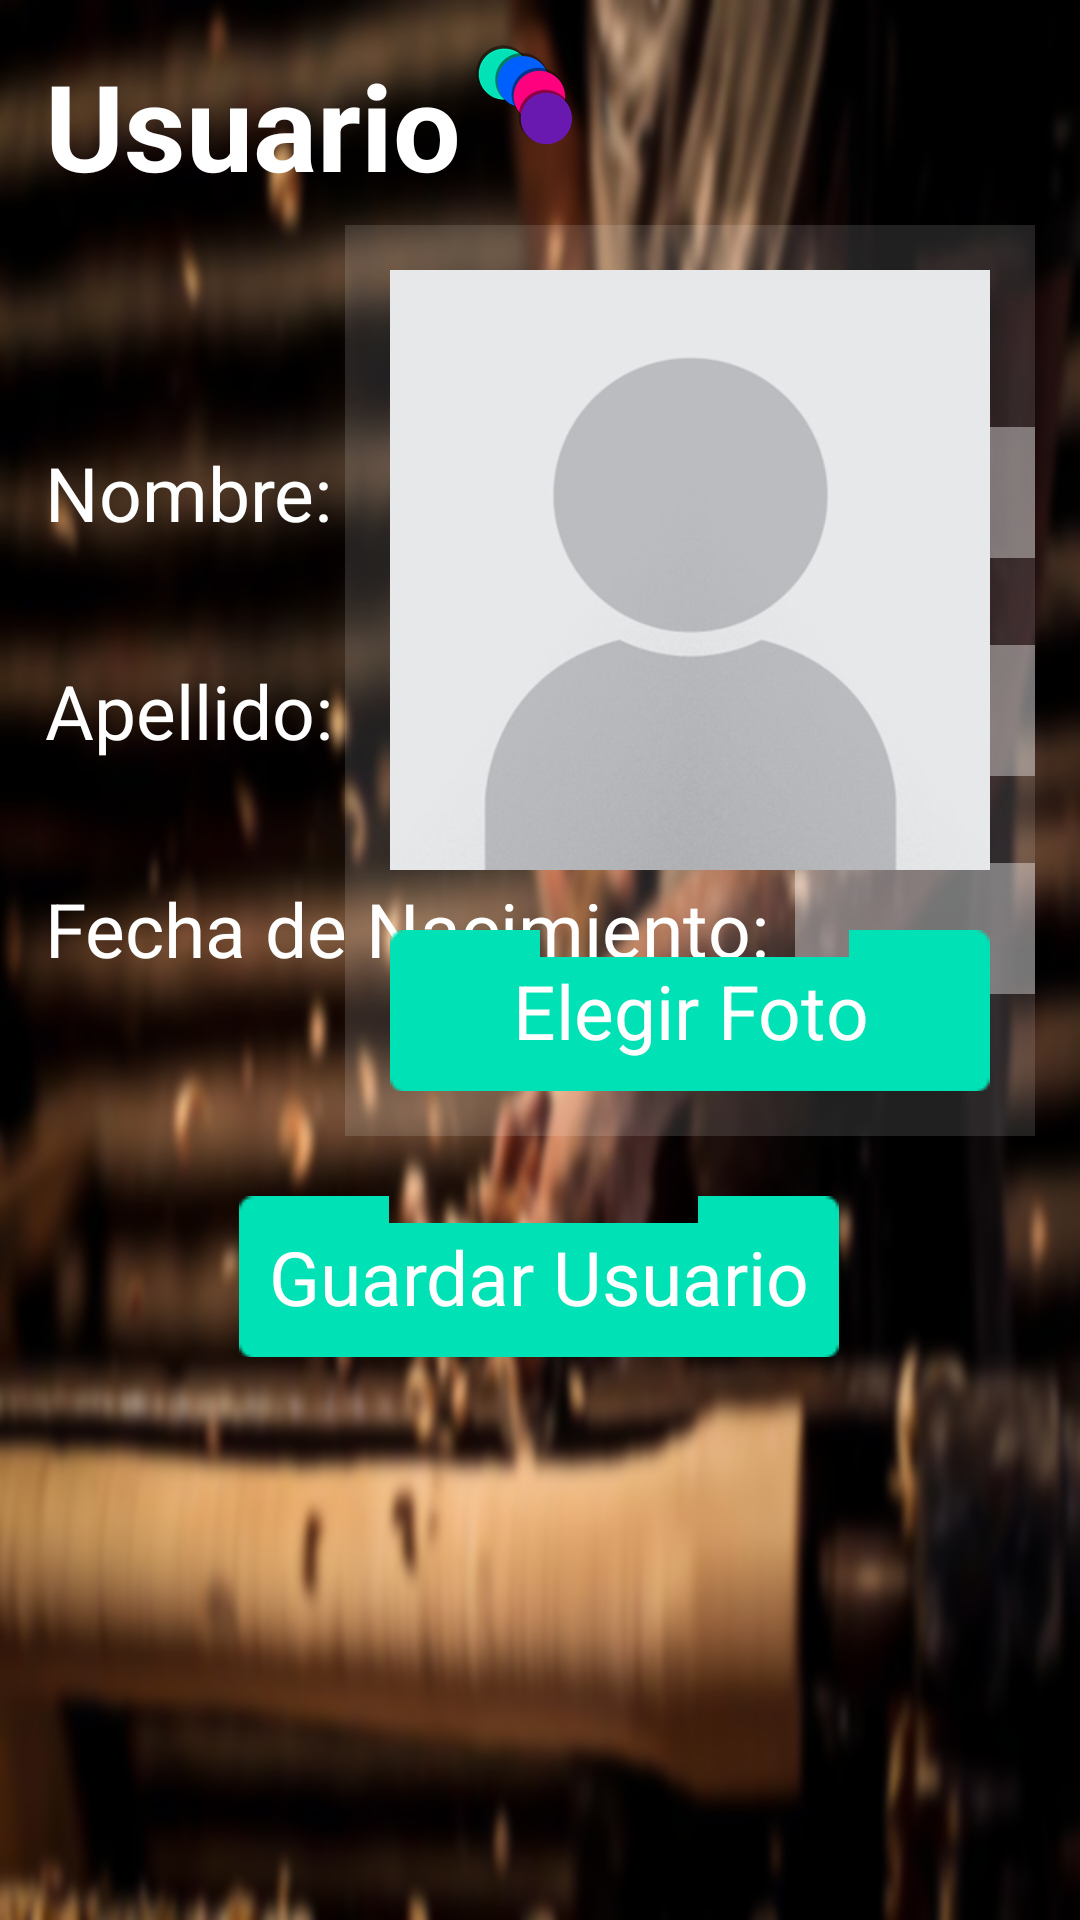

Where to tap for icons on this 1080 × 1920 app screen, as (x,y):
balls: (524,94)
